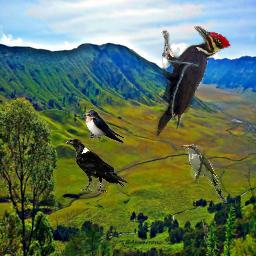Crow: (65, 139, 129, 193)
Cuckoo: (182, 144, 227, 203)
Swallow: (83, 109, 125, 144)
Woodpecker: (155, 26, 231, 137)
